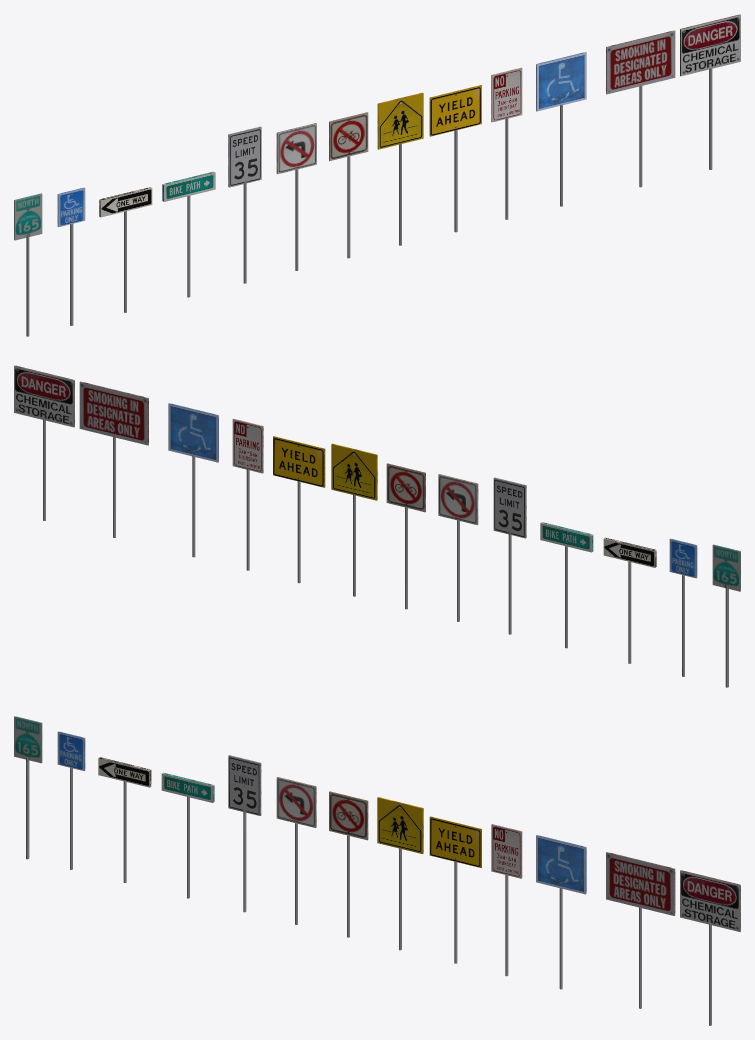
The model's file is sqin.fbx.
3 renders of one model, top to bottom at view 1: azimuth 30°, elevation 25°; view 2: azimuth 150°, elevation 25°; view 3: azimuth 330°, elevation 25°, orthographic.
Visible parts, largest first — view 1: Box008, Box009, Box007, Box004, Box005, Box001, Box002, Box003, Box006, Box013, Box010, Box011 (+1 smaller); view 2: Box008, Box009, Box007, Box004, Box005, Box001, Box002, Box003, Box006, Box013, Box010, Box011 (+1 smaller); view 3: Box008, Box009, Box007, Box004, Box005, Box001, Box002, Box003, Box006, Box013, Box010, Box011 (+1 smaller).
Part boxes in pixels (bbox=[...]): Box008: bbox=[606, 30, 675, 94]; Box009: bbox=[680, 14, 740, 76]; Box007: bbox=[536, 52, 586, 111]; Box004: bbox=[377, 92, 423, 149]; Box005: bbox=[429, 85, 481, 136]; Box001: bbox=[228, 126, 261, 187]; Box002: bbox=[276, 123, 316, 174]; Box003: bbox=[329, 112, 368, 161]; Box006: bbox=[491, 67, 522, 122]; Box013: bbox=[14, 193, 42, 240]; Box010: bbox=[162, 171, 215, 201]; Box011: bbox=[99, 187, 152, 217]; Box008: bbox=[79, 381, 148, 445]; Box009: bbox=[14, 365, 74, 427]; Box007: bbox=[168, 403, 218, 462]; Box004: bbox=[331, 443, 377, 500]; Box005: bbox=[273, 436, 325, 487]; Box001: bbox=[493, 477, 526, 538]; Box002: bbox=[438, 474, 478, 525]; Box003: bbox=[386, 463, 425, 512]; Box006: bbox=[232, 418, 263, 473]; Box013: bbox=[712, 544, 740, 591]; Box010: bbox=[540, 522, 593, 552]; Box011: bbox=[603, 537, 656, 567]; Box008: bbox=[606, 852, 675, 915]; Box009: bbox=[680, 870, 740, 931]; Box007: bbox=[536, 835, 586, 894]; Box004: bbox=[377, 797, 423, 853]; Box005: bbox=[429, 816, 481, 867]; Box001: bbox=[228, 755, 261, 815]; Box002: bbox=[276, 777, 316, 827]; Box003: bbox=[329, 791, 368, 840]; Box006: bbox=[491, 824, 522, 878]; Box013: bbox=[14, 716, 42, 763]; Box010: bbox=[161, 772, 214, 802]; Box011: bbox=[98, 757, 151, 787].
Size of the model in its own units: 596 by 119 by 2.64.
2 materials, 1 textured.
